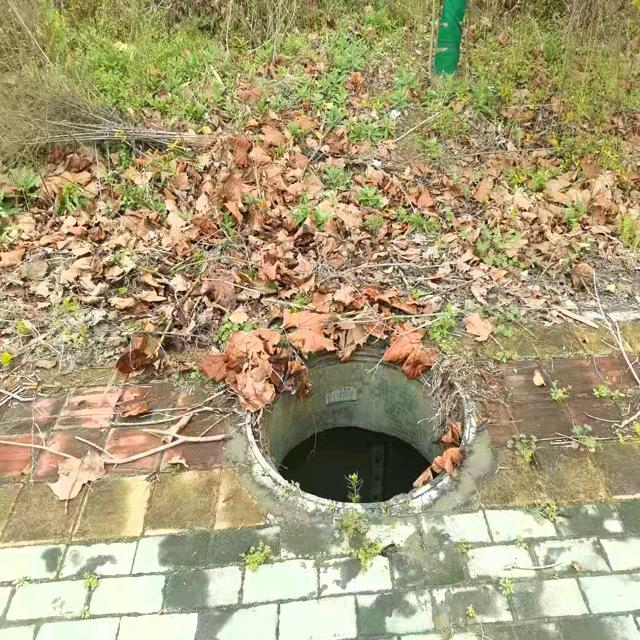lose: (244, 339, 473, 502)
